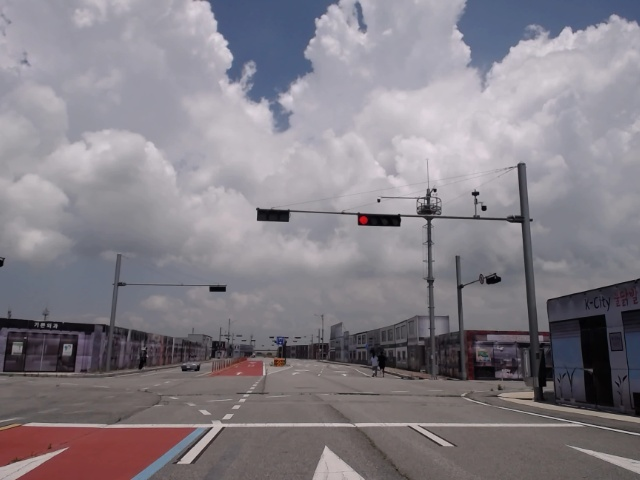red_4: (358, 214, 400, 227)
